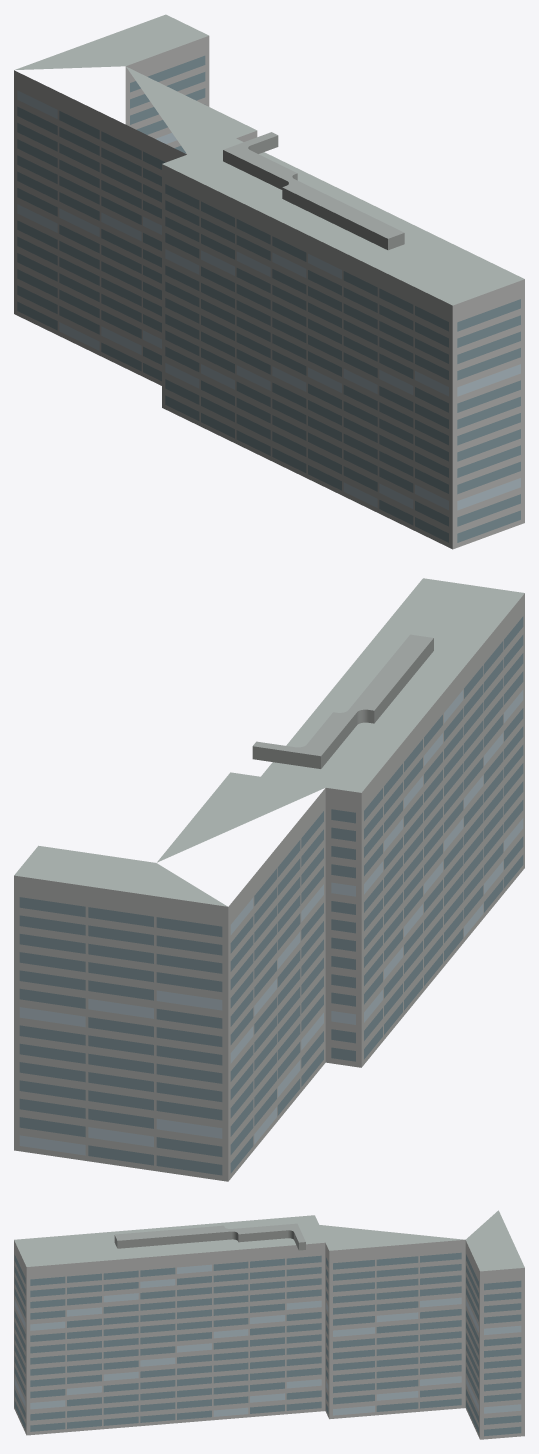
The model's file is apt-a15722001.glb.
The picture shows the model from 3 angles, top to bottom: view 1: azimuth 30°, elevation 25°; view 2: azimuth 150°, elevation 25°; view 3: azimuth 270°, elevation 25°; orthographic projection. The views are drawn at different scales.
Parts seen in each view (by area): view 1: apt-a15722001; view 2: apt-a15722001; view 3: apt-a15722001.
Boxes of the visible parts, x1=… form: apt-a15722001: x1=14, y1=14, x2=524, y2=549; apt-a15722001: x1=14, y1=578, x2=524, y2=1181; apt-a15722001: x1=14, y1=1210, x2=524, y2=1439.
Bounding box in the file's own units: 31.31 × 42 × 110.
